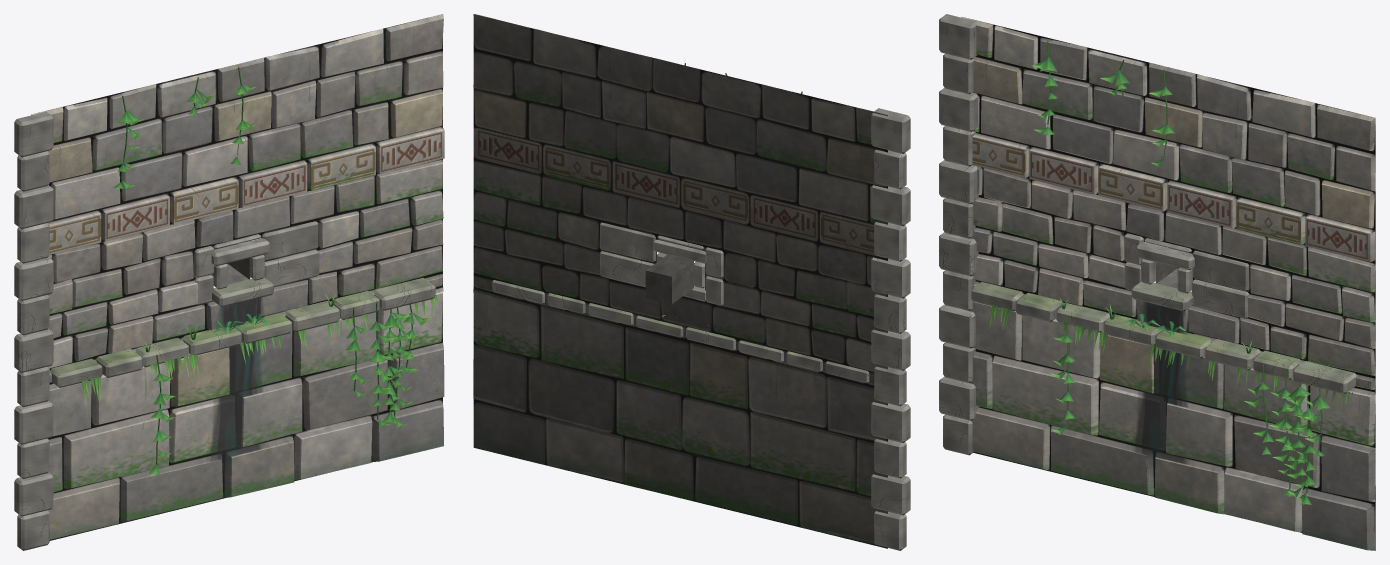
Rendered from pit_wall_spout.glb.
3 renders of one model, left to right at view 1: azimuth 30°, elevation 25°; view 2: azimuth 150°, elevation 25°; view 3: azimuth 330°, elevation 25°, orthographic.
Visible parts, largest first — view 1: pit_wall_spout_face, pit_wall_spout_blocks, pit_wall_spout_green, pit_wall_spout_wet; view 2: pit_wall_spout_face, pit_wall_spout_blocks; view 3: pit_wall_spout_face, pit_wall_spout_blocks, pit_wall_spout_green, pit_wall_spout_wet.
Part boxes in pixels (x1,y1,x2,y2): pit_wall_spout_face: (31, 14, 444, 540); pit_wall_spout_blocks: (14, 111, 435, 550); pit_wall_spout_green: (81, 67, 437, 474); pit_wall_spout_wet: (209, 297, 264, 482); pit_wall_spout_face: (473, 14, 887, 548); pit_wall_spout_blocks: (492, 108, 910, 550); pit_wall_spout_face: (961, 17, 1375, 550); pit_wall_spout_blocks: (939, 14, 1356, 455); pit_wall_spout_green: (989, 41, 1349, 504); pit_wall_spout_wet: (1134, 302, 1189, 480).
Size of the model in its own units: 12.51 by 12.01 by 2.16.
4 materials, 4 textured.
